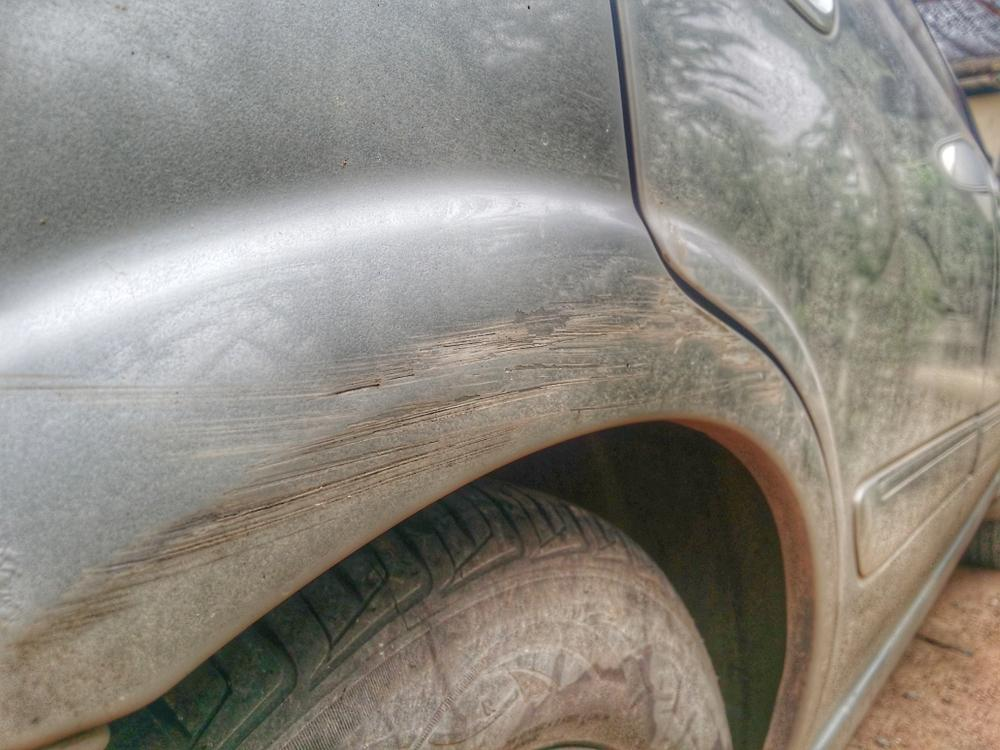scratch: (0, 275, 807, 744)
